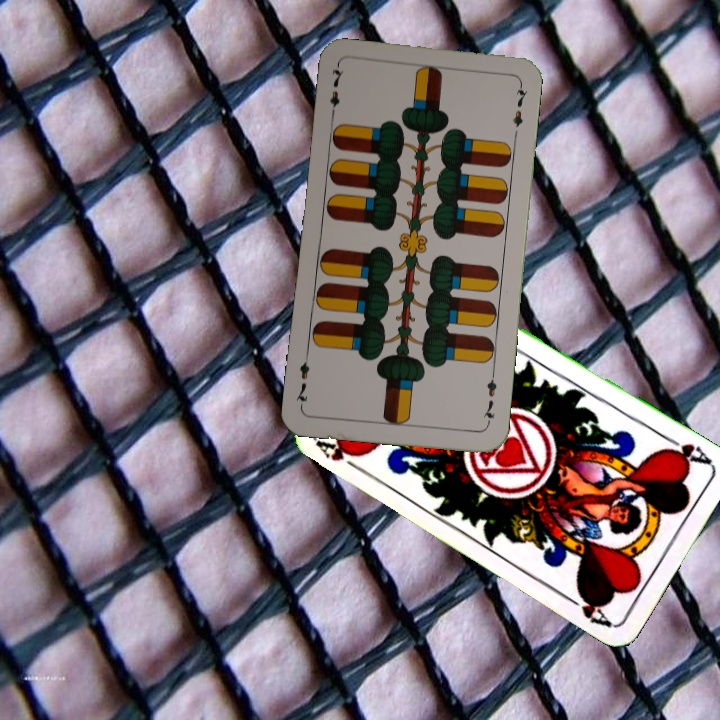E7: (478, 369, 500, 428), (326, 62, 346, 122)
HA: (314, 436, 368, 476), (658, 431, 714, 468)
